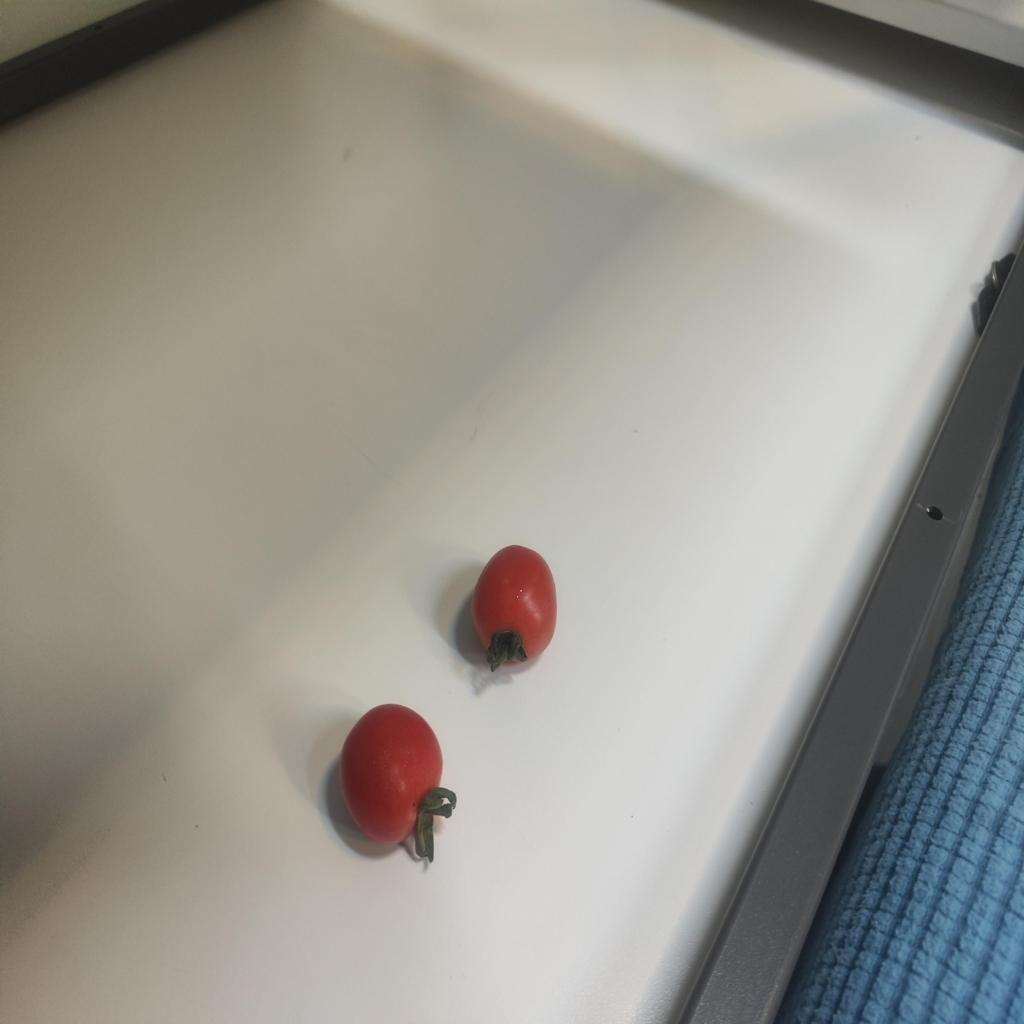tomato: (330, 708, 464, 850), (473, 537, 557, 673)
